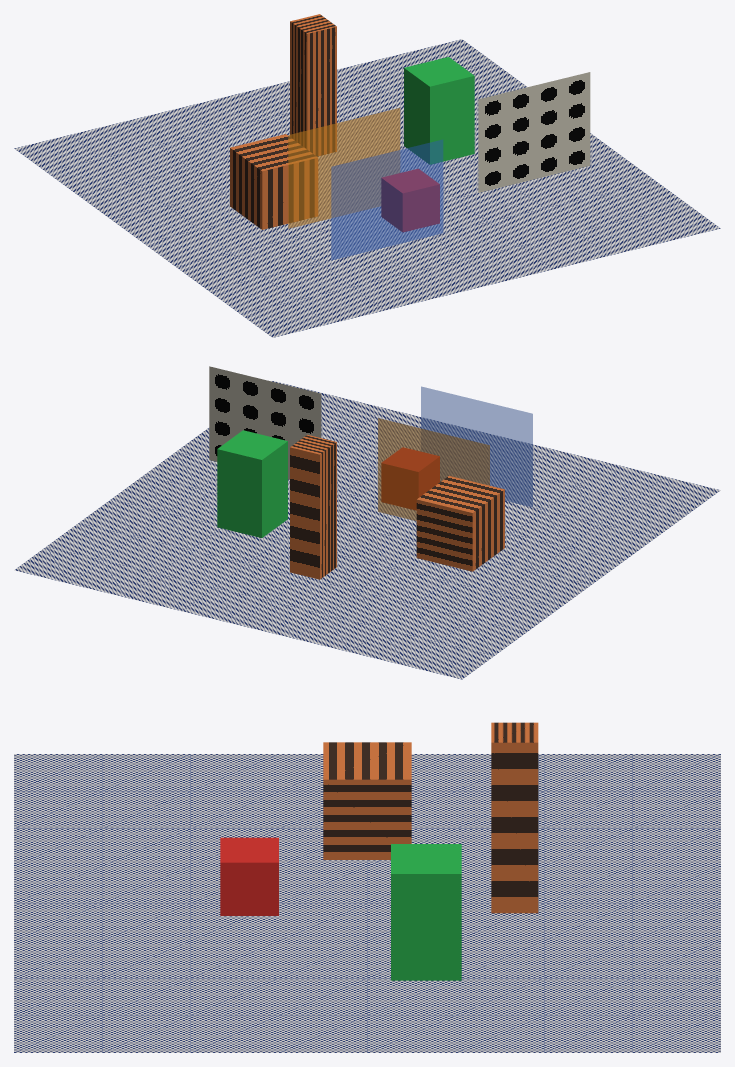
The model's file is testscene.obj.
3 views of the same model, one above another, from view 1: azimuth 30°, elevation 25°; view 2: azimuth 150°, elevation 25°; view 3: azimuth 270°, elevation 25° (orthographic). The views are drawn at different scales.
Visible parts, largest first — view 1: Ground, Grate, GlassNear, GlassFar, BoxA, BoxC, BoxD, BoxB; view 2: Ground, GlassNear, GlassFar, BoxA, Grate, BoxC, BoxD, BoxB; view 3: Ground, BoxA, BoxC, BoxD, BoxB.
Boxes of the visible parts, x1,y1,x2,y2 form: Ground: (14, 39, 720, 337); Grate: (478, 72, 590, 192); GlassNear: (331, 139, 443, 259); GlassFar: (288, 108, 400, 228); BoxA: (230, 134, 318, 229); BoxC: (404, 57, 474, 164); BoxD: (290, 14, 336, 156); BoxB: (381, 168, 439, 232); Ground: (14, 381, 720, 679); GlassNear: (421, 386, 532, 507); GlassFar: (378, 418, 489, 520); BoxA: (416, 476, 504, 571); Grate: (209, 366, 321, 479); BoxC: (217, 430, 287, 537); BoxD: (290, 434, 336, 579); BoxB: (381, 447, 439, 510); Ground: (14, 754, 720, 1052); BoxA: (323, 742, 411, 859); BoxC: (391, 844, 461, 980); BoxD: (491, 722, 538, 913); BoxB: (220, 837, 278, 915).
Size of the model in its own units: 12 by 3.2 by 12.
Materials: 7 (3 with a texture image).
